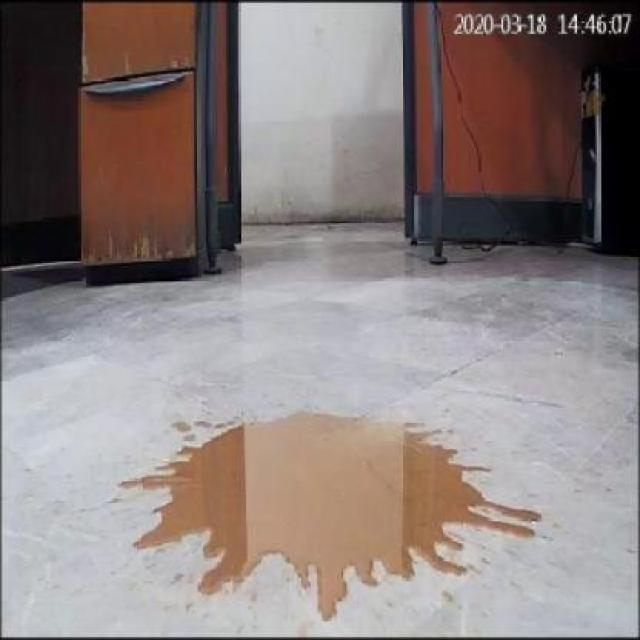spillage: (136, 413, 536, 624)
